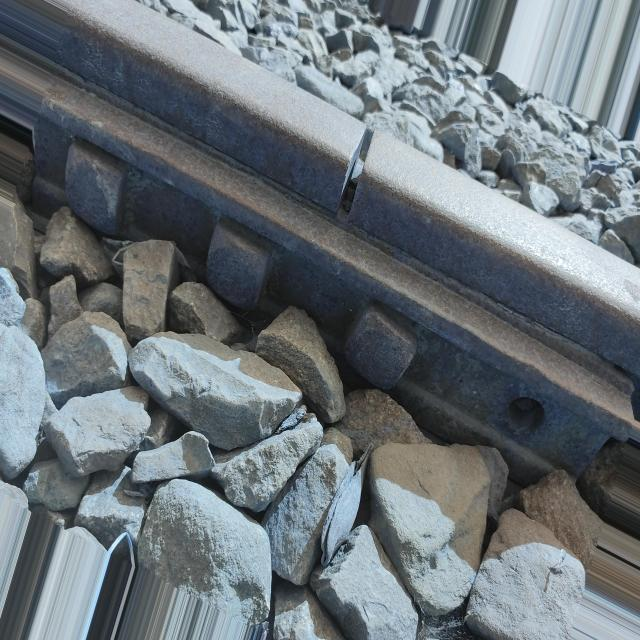Defective Joint: (33, 0, 640, 480)
